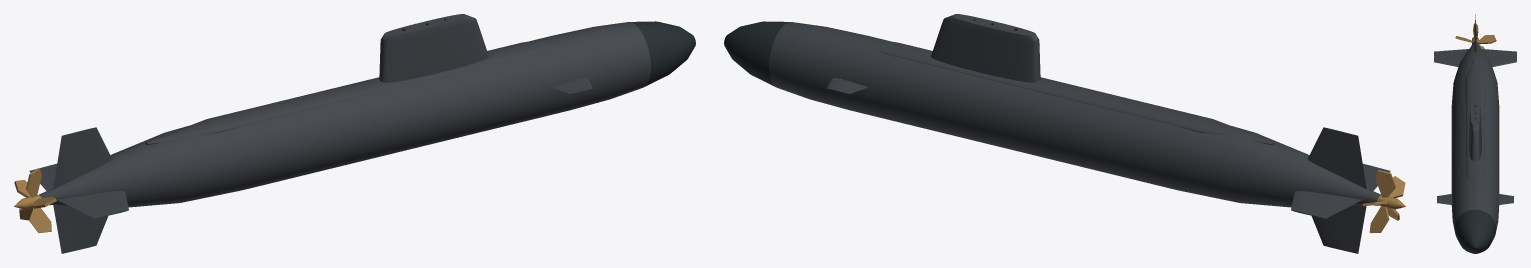
Rendered from irn_ssm_ghadir.glb.
3 renders of one model, left to right at view 1: azimuth 30°, elevation 25°; view 2: azimuth 150°, elevation 25°; view 3: azimuth 270°, elevation 25°, orthographic. The views are drawn at different scales.
Visible parts, largest first — view 1: submarine_coating, boot_topping, bronze; view 2: submarine_coating, boot_topping, bronze; view 3: submarine_coating, boot_topping, bronze.
Part boxes in pixels (left/top/right/bottom): submarine_coating: left=29, top=14, right=650, bottom=253; boot_topping: left=402, top=18, right=695, bottom=86; bronze: left=14, top=168, right=56, bottom=233; submarine_coating: left=769, top=14, right=1390, bottom=253; boot_topping: left=724, top=18, right=1017, bottom=86; bronze: left=1362, top=170, right=1405, bottom=233; submarine_coating: left=1434, top=14, right=1516, bottom=229; boot_topping: left=1454, top=105, right=1496, bottom=253; bronze: left=1455, top=23, right=1496, bottom=48.
Size of the model in its own units: 10 by 1.98 by 1.66.
